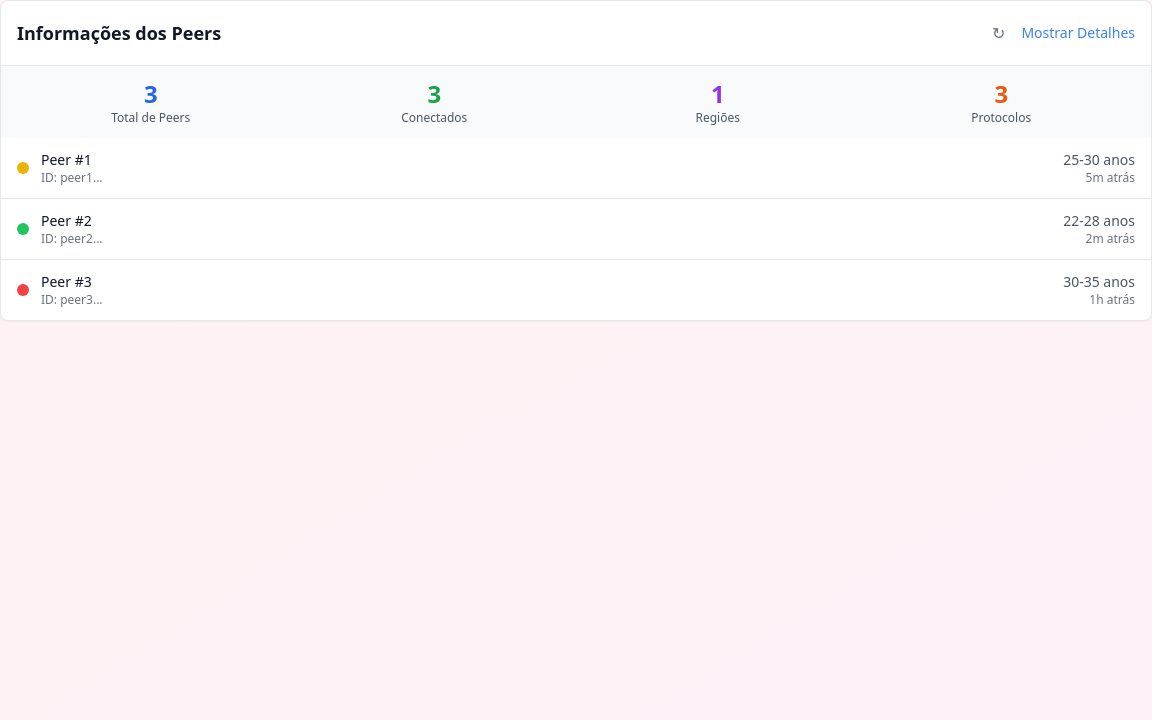
Test: PeerInfoDisplay › toggles details visibility
Click the button "Mostrar Detalhes": click(1078, 33) [1021,23,1135,43]
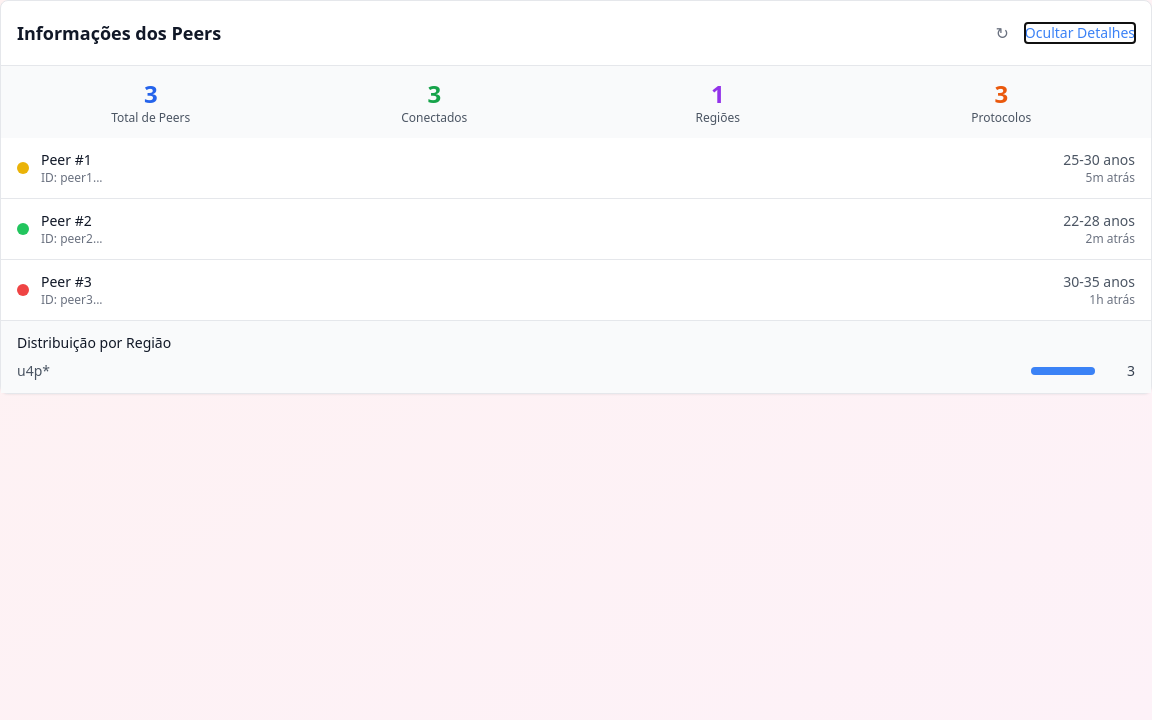
Expected: the button "Ocultar Detalhes" is shown
Expected: the heading "Distribuição por Região" is shown, [17,333,171,352]
Click the button "Ocultar Detalhes": click(1080, 33) [1025,23,1135,43]
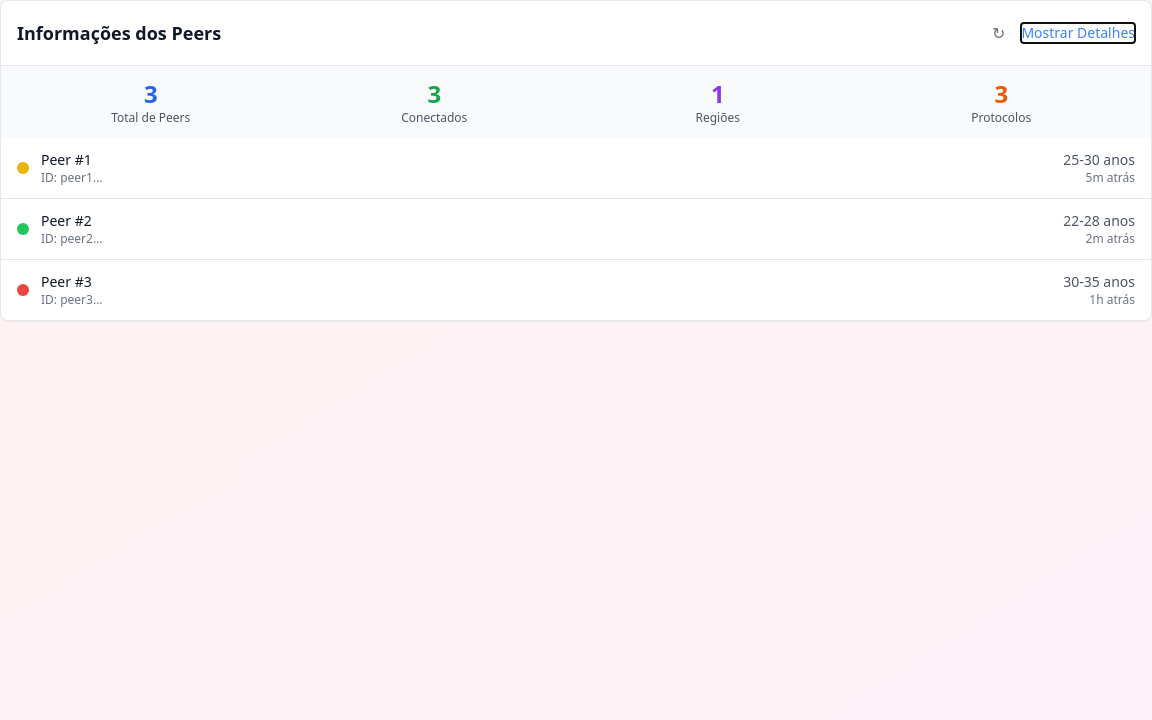
Expected: the button "Mostrar Detalhes" is shown, [1021,23,1135,43]
Expected: the heading "Distribuição por Região" is gone
